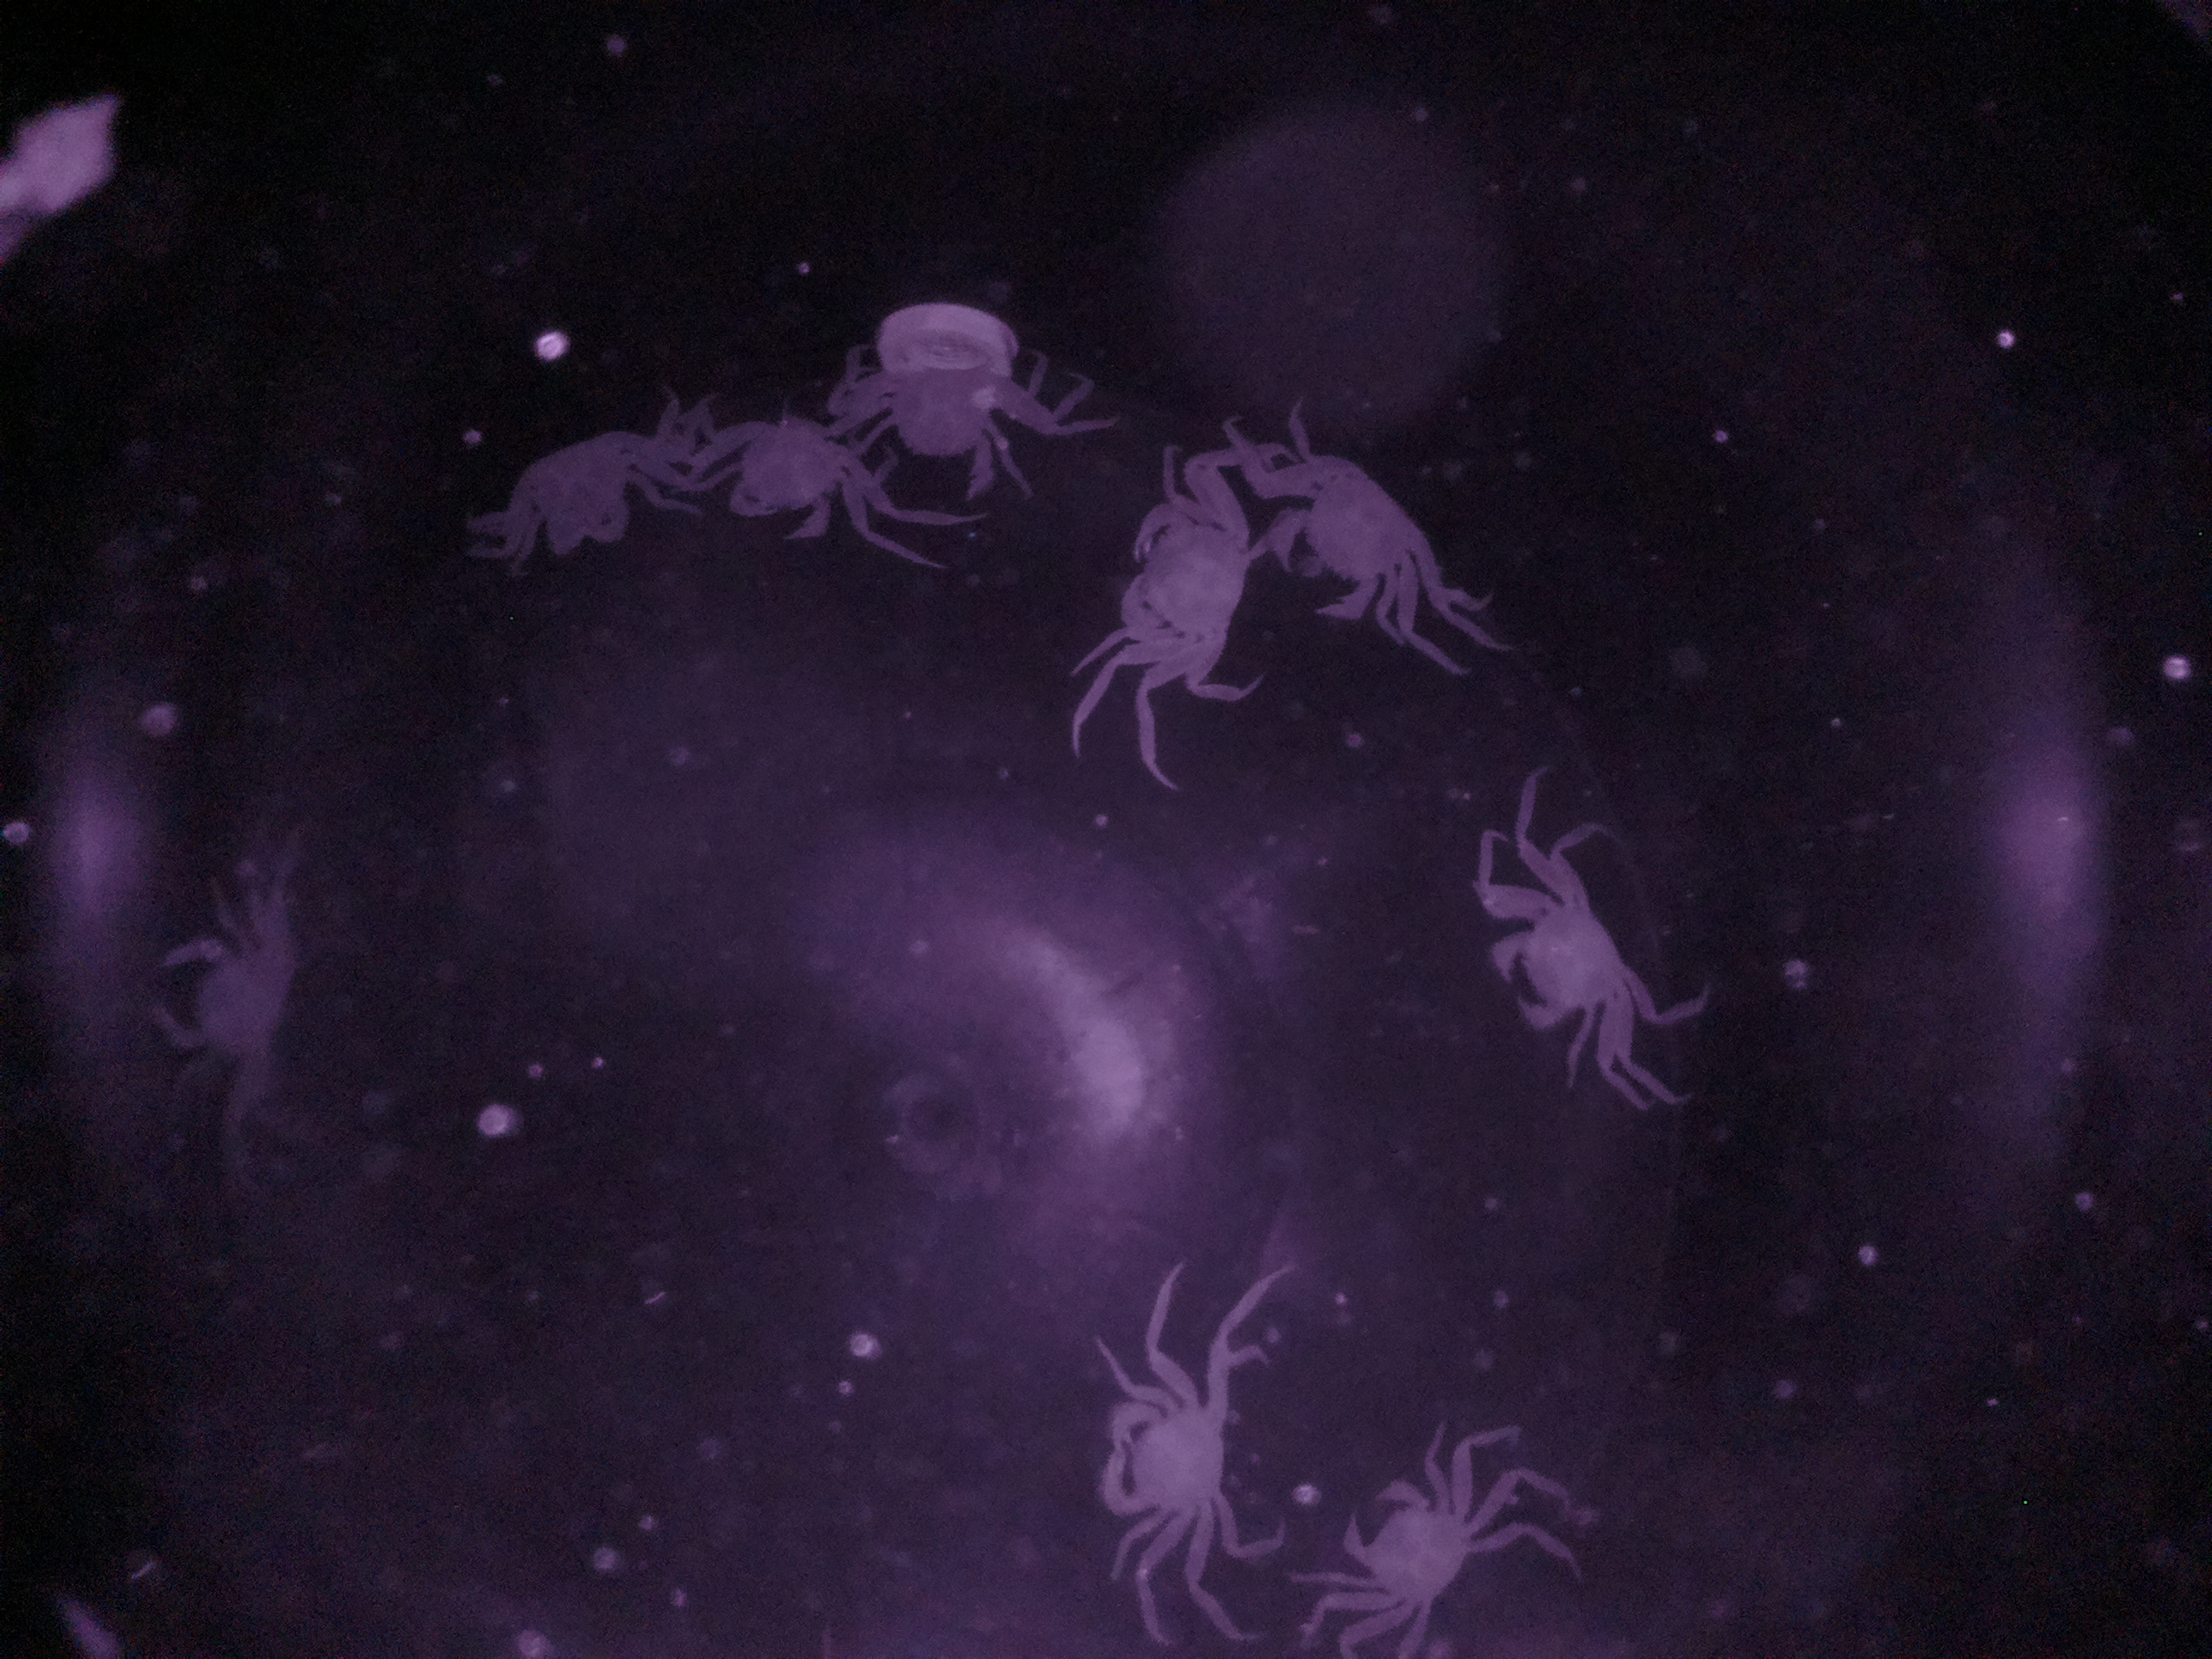Crab: (1467, 859, 1683, 1084), (1082, 1323, 1261, 1579), (1247, 423, 1447, 638), (136, 885, 317, 1108), (1320, 1443, 1507, 1643)
